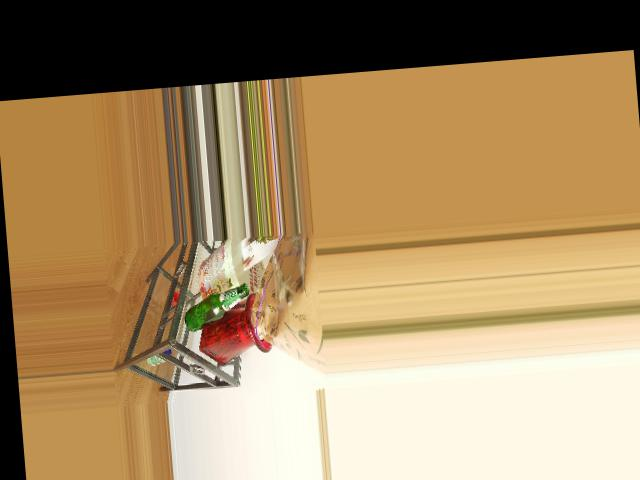beer: (182, 283, 251, 332)
